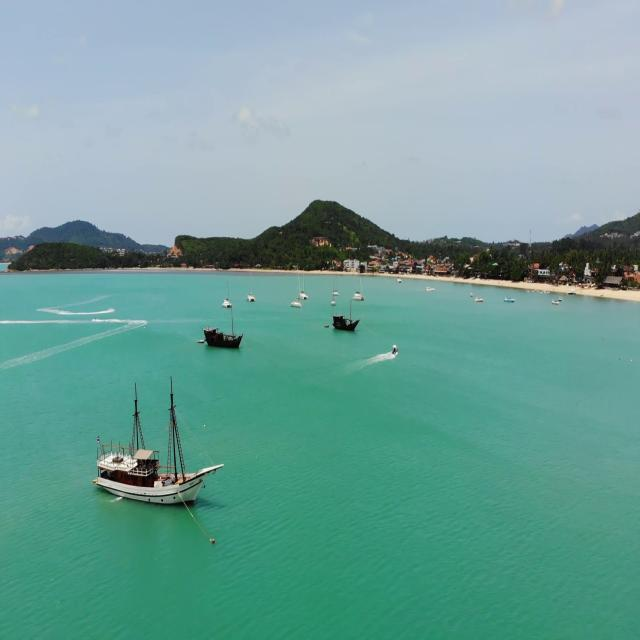fishing boat: (87, 392, 221, 502), (202, 301, 252, 355), (328, 303, 362, 342)
